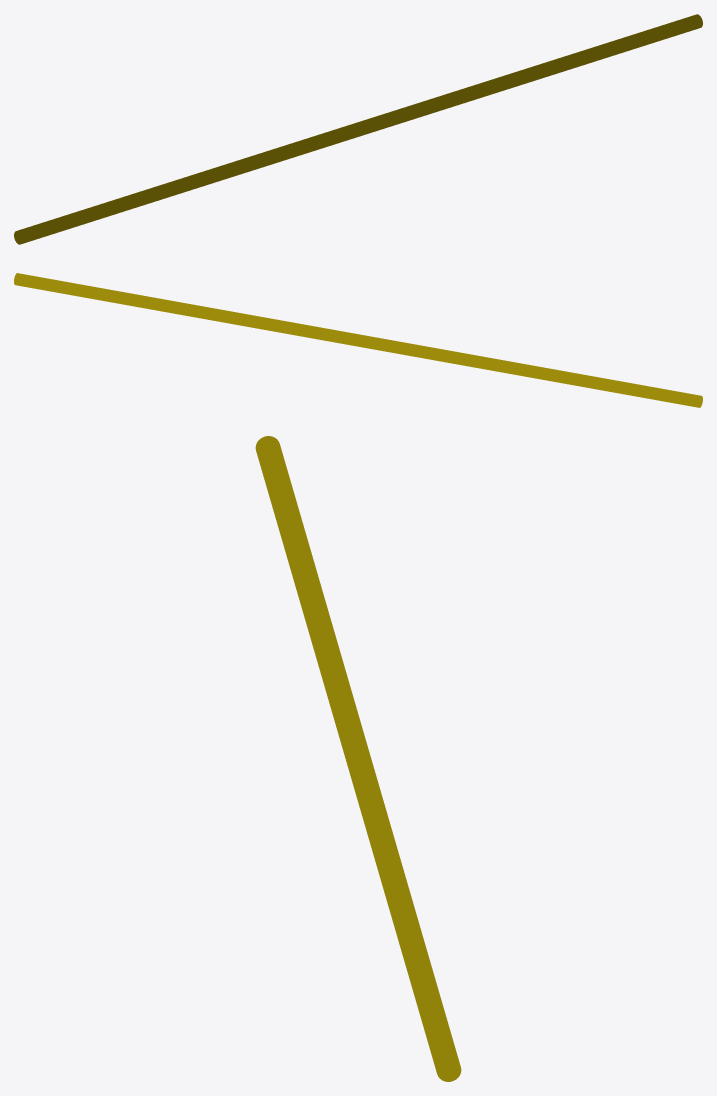
The picture shows the model from 3 angles, top to bottom: view 1: azimuth 30°, elevation 25°; view 2: azimuth 150°, elevation 25°; view 3: azimuth 270°, elevation 25°; orthographic projection. The views are drawn at different scales.
Parts seen in each view (by area): view 1: Node; view 2: Node; view 3: Node.
Part boxes in pixels (<box>): Node: <box>14,14,702,244</box>; Node: <box>14,273,702,407</box>; Node: <box>255,436,461,1081</box>.
Size of the model in its own units: 29.84 by 0.4964 by 4.15.
